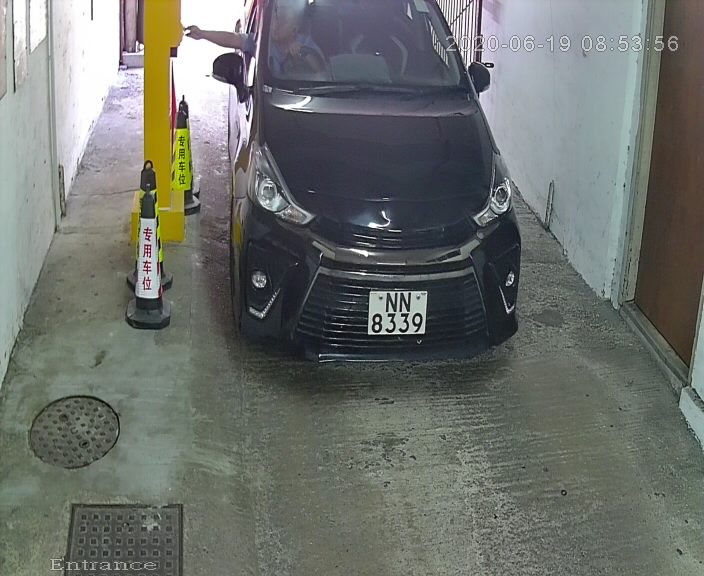bottom_left_lp: (363, 329, 373, 337)
bottom_left_radiator: (308, 237, 324, 249)
bottom_left_windshield: (260, 80, 282, 99)
bottom_right_lp: (422, 329, 429, 337)
bottom_right_radiator: (456, 233, 478, 249)
bottom_right_windshield: (455, 92, 477, 112)
left_headlight: (250, 136, 314, 227)
right_headlight: (470, 150, 515, 227)
top_left_lp: (366, 288, 377, 296)
top_left_radiator: (313, 210, 323, 222)
top_right_lp: (422, 288, 431, 298)
top_right_radiator: (452, 209, 468, 221)
